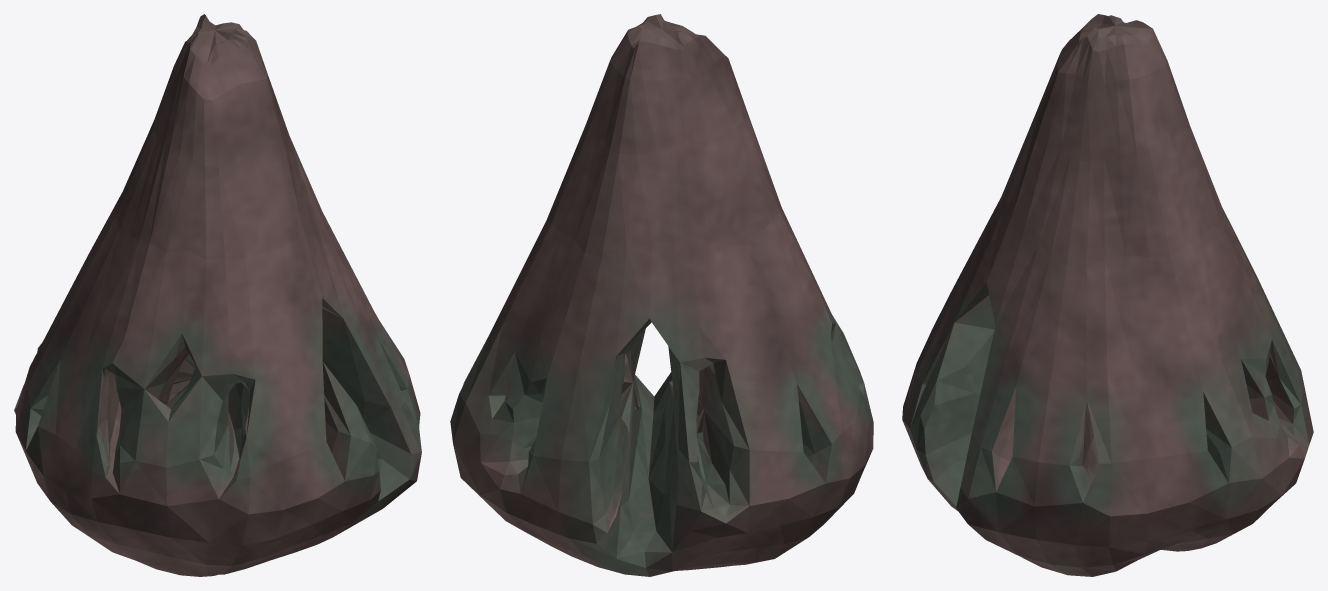
Rendered from art_medusa.obj.
3 renders of one model, left to right at view 1: azimuth 30°, elevation 25°; view 2: azimuth 150°, elevation 25°; view 3: azimuth 270°, elevation 25°, orthographic. The views are drawn at different scales.
Parts seen in each view (by area): view 1: Cylinder_Cylinder.001; view 2: Cylinder_Cylinder.001; view 3: Cylinder_Cylinder.001.
Part boxes in pixels (x1=…): Cylinder_Cylinder.001: x1=14, y1=14, x2=421, y2=576; Cylinder_Cylinder.001: x1=450, y1=14, x2=873, y2=576; Cylinder_Cylinder.001: x1=902, y1=14, x2=1313, y2=576.
Size of the model in its own units: 3.6 by 5.05 by 3.56.
